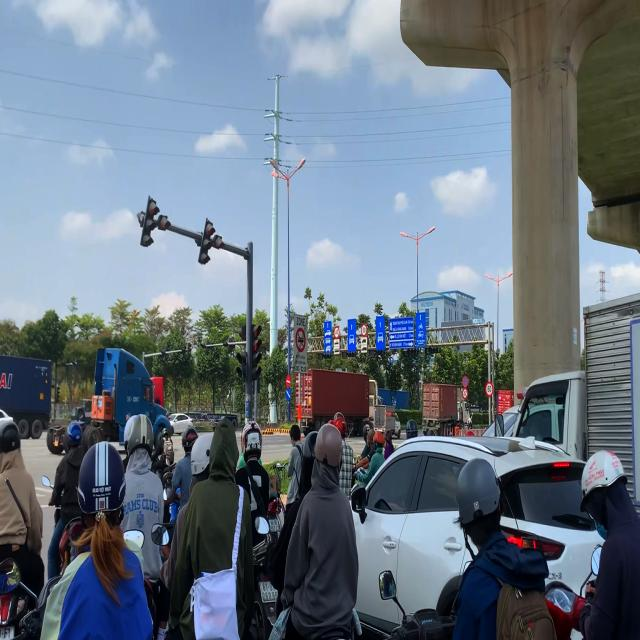Cam con lai: (295, 327, 306, 352), (462, 388, 468, 399)
Cam dung va do: (462, 376, 468, 388)
Cam nguoc chieu: (285, 374, 291, 386)
Hieu lenh: (286, 387, 291, 402)
Toc do toi da: (485, 382, 493, 396), (361, 323, 367, 337), (334, 327, 340, 338)
